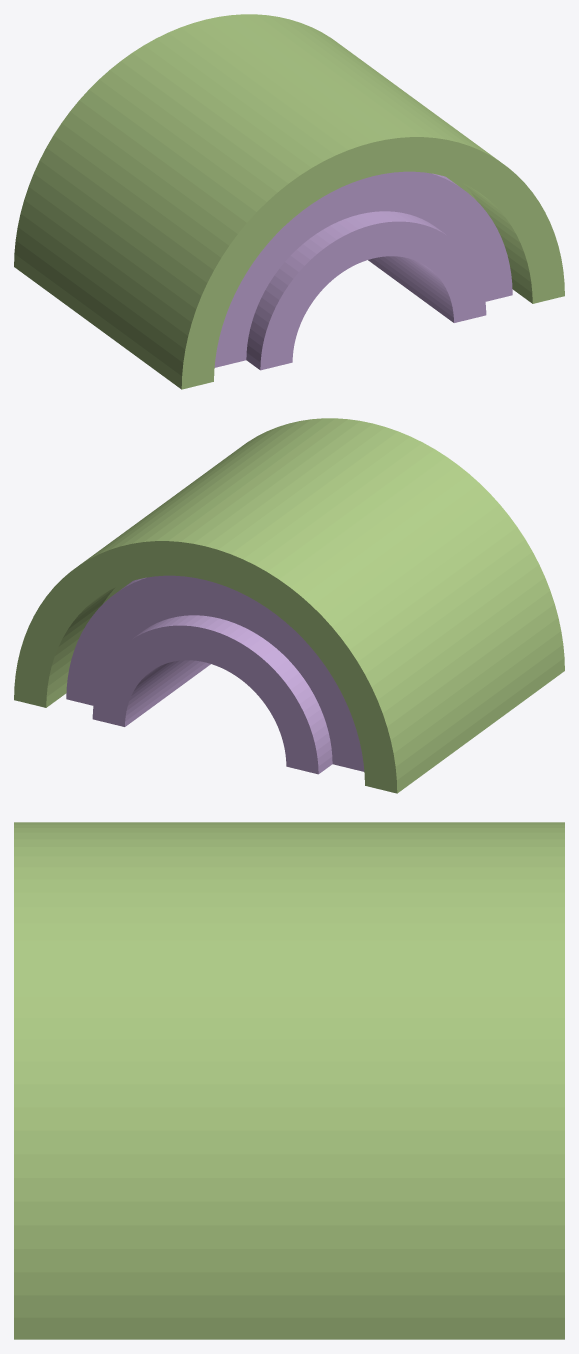
The model's file is labyrinth_seal_demo.glb.
The picture shows the model from 3 angles, top to bottom: view 1: azimuth 30°, elevation 25°; view 2: azimuth 150°, elevation 25°; view 3: azimuth 270°, elevation 25°; orthographic projection. The views are drawn at different scales.
Visible parts, largest first — view 1: stator_cutaway, rotor_cutaway; view 2: stator_cutaway, rotor_cutaway; view 3: stator_cutaway.
Part boxes in pixels (x1=…): stator_cutaway: x1=14, y1=14, x2=564, y2=389; rotor_cutaway: x1=214, y1=171, x2=512, y2=370; stator_cutaway: x1=14, y1=418, x2=564, y2=793; rotor_cutaway: x1=66, y1=575, x2=364, y2=774; stator_cutaway: x1=14, y1=822, x2=564, y2=1339.
Size of the model in its own units: 19 by 9.5 by 14.4.
